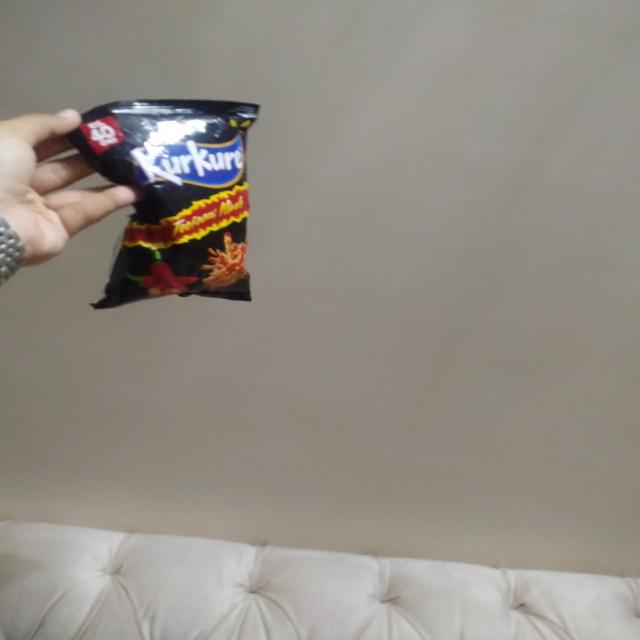Plastic: (77, 93, 256, 305)
